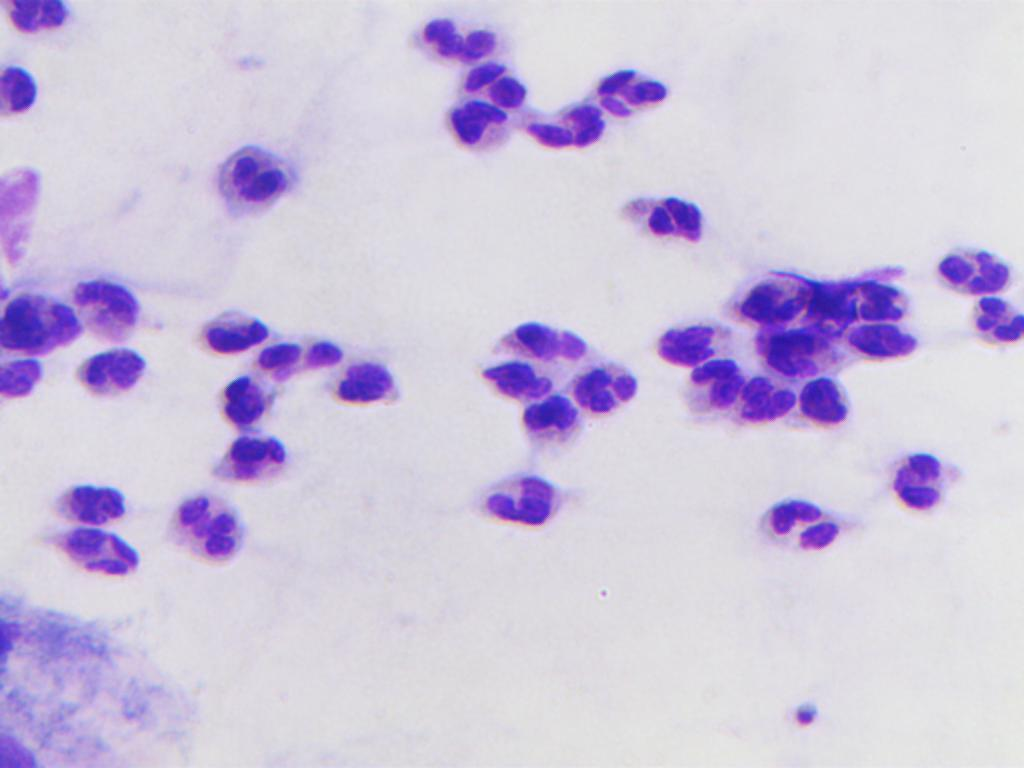neutrophil: (187, 137, 317, 218), (594, 174, 724, 255), (850, 433, 980, 514), (440, 465, 570, 546), (740, 480, 870, 561), (144, 484, 274, 565), (403, 2, 514, 72), (920, 224, 1019, 298), (43, 520, 142, 594), (70, 260, 151, 343), (333, 331, 406, 420), (255, 318, 353, 383), (0, 280, 79, 357), (428, 95, 506, 172), (491, 391, 589, 451), (728, 268, 821, 329), (71, 337, 151, 404), (52, 460, 132, 527), (501, 320, 600, 374), (958, 286, 1023, 368), (516, 99, 609, 156), (639, 308, 723, 369), (748, 327, 852, 375), (205, 428, 293, 483), (471, 355, 558, 409), (193, 297, 269, 357), (210, 366, 281, 430), (792, 371, 863, 435), (596, 66, 679, 120), (845, 310, 915, 367), (733, 368, 796, 430), (688, 354, 749, 418), (454, 64, 537, 110), (0, 63, 52, 132), (574, 366, 643, 414), (854, 274, 913, 322), (0, 0, 71, 36), (0, 361, 52, 396)
